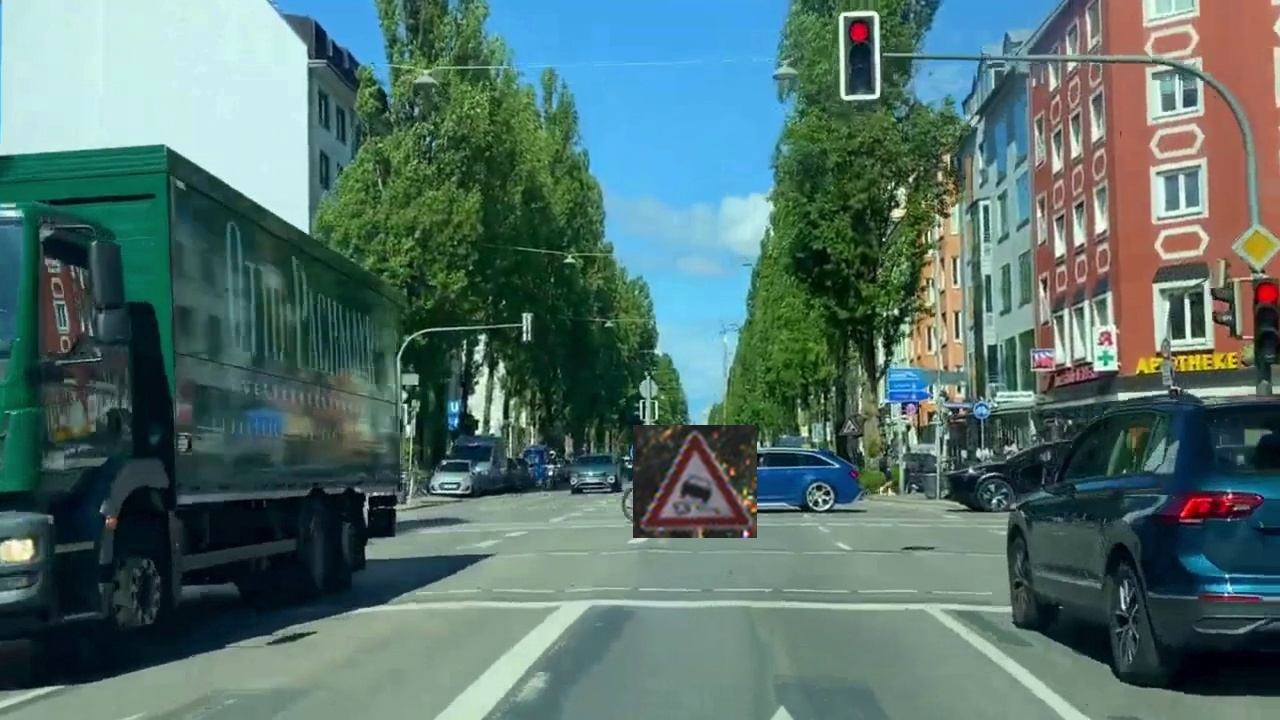Slippery: (633, 425, 757, 538)
